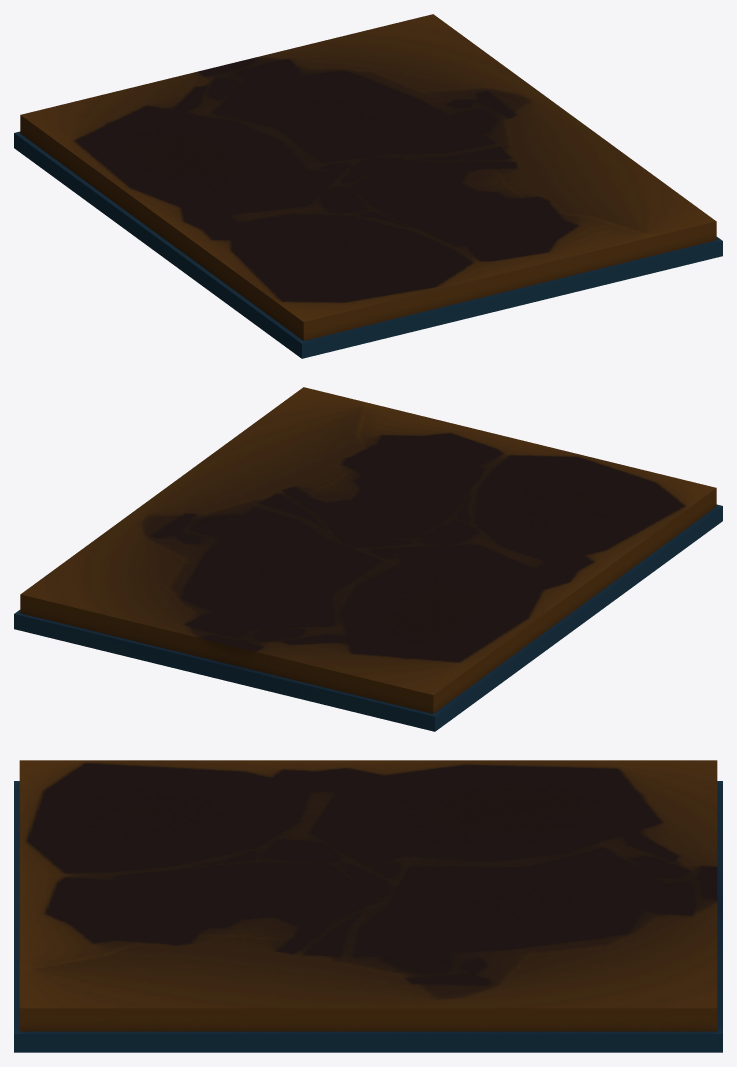
File: Ground_02.FBX
3 renders of one model, top to bottom at view 1: azimuth 30°, elevation 25°; view 2: azimuth 150°, elevation 25°; view 3: azimuth 270°, elevation 25°, orthographic. The views are drawn at different scales.
Visible parts, largest first — view 1: Ground_02; view 2: Ground_02; view 3: Ground_02.
Boxes of the visible parts, x1,y1,x2,y2 form: Ground_02: [14, 14, 722, 358]; Ground_02: [14, 387, 722, 731]; Ground_02: [14, 760, 722, 1052].
Size of the model in its own units: 21.94 by 1.69 by 25.99.
